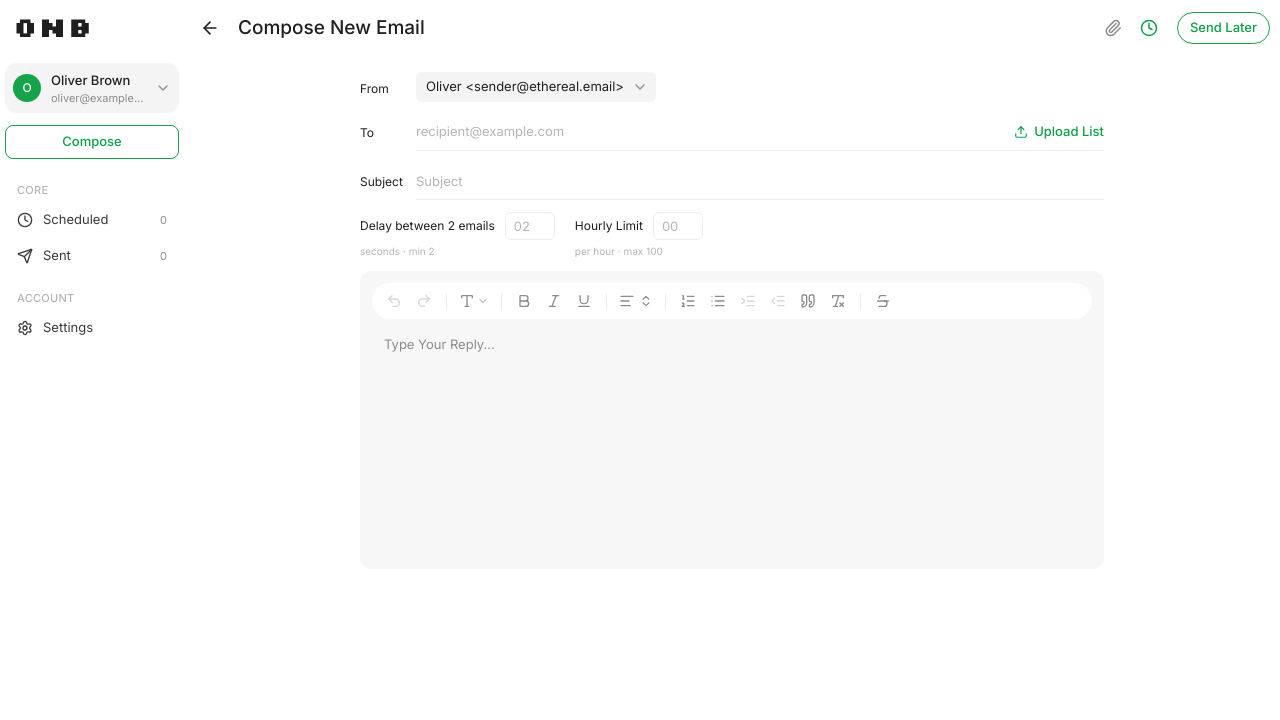
Scenario: compose › validates required fields before submitting
Expected: the heading "Compose New Email" is shown, x1=238 y1=16 x2=425 y2=39
Click the button "Send Later".
click(1223, 28)  # box x1=1177 y1=12 x2=1270 y2=44
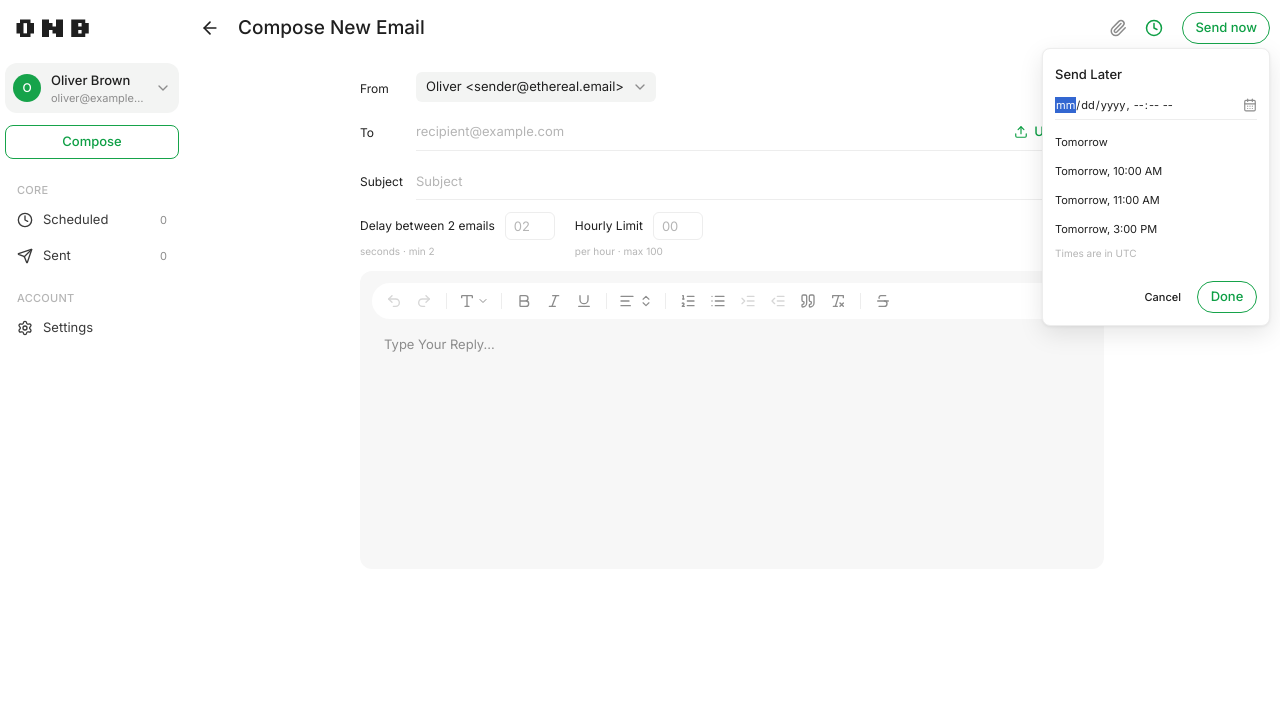
Click the button "Send now".
click(1226, 28)  # box x1=1182 y1=12 x2=1270 y2=44
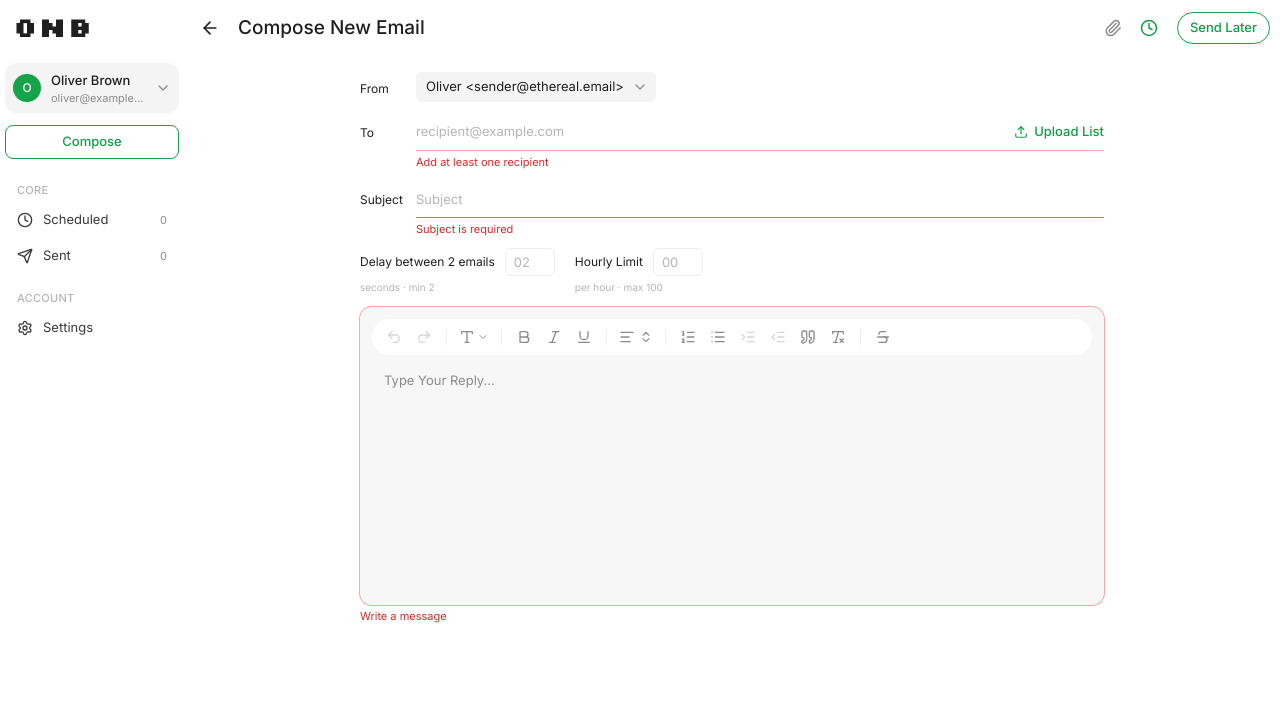
Expected: the text "Add at least one recipient" is shown, x1=416 y1=155 x2=549 y2=169
Expected: the text "Subject is required" is shown, x1=416 y1=222 x2=513 y2=236
Expected: the text "Write a message" is shown, x1=360 y1=609 x2=447 y2=623
